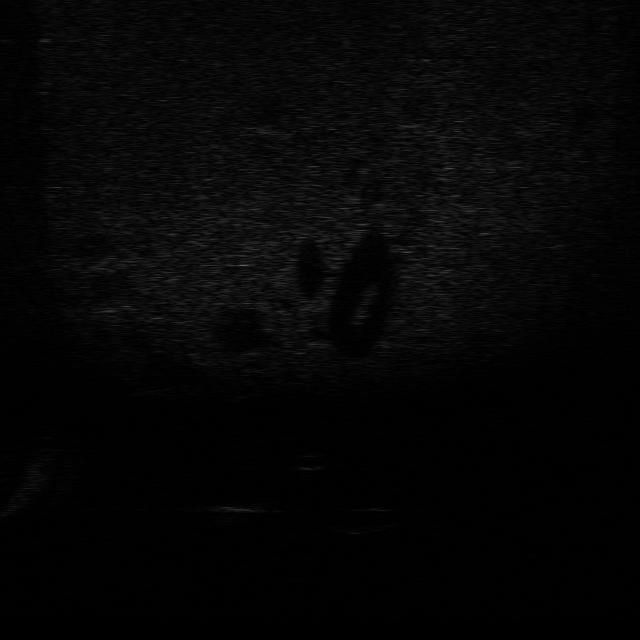ball: (282, 448, 332, 476)
square cage: (200, 496, 281, 524)
tyre: (326, 504, 402, 539)
